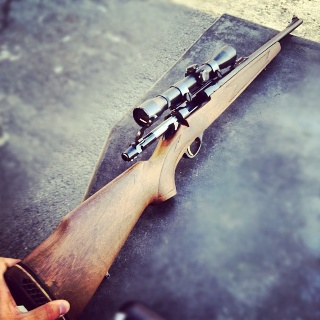rifle: (2, 13, 304, 320)
